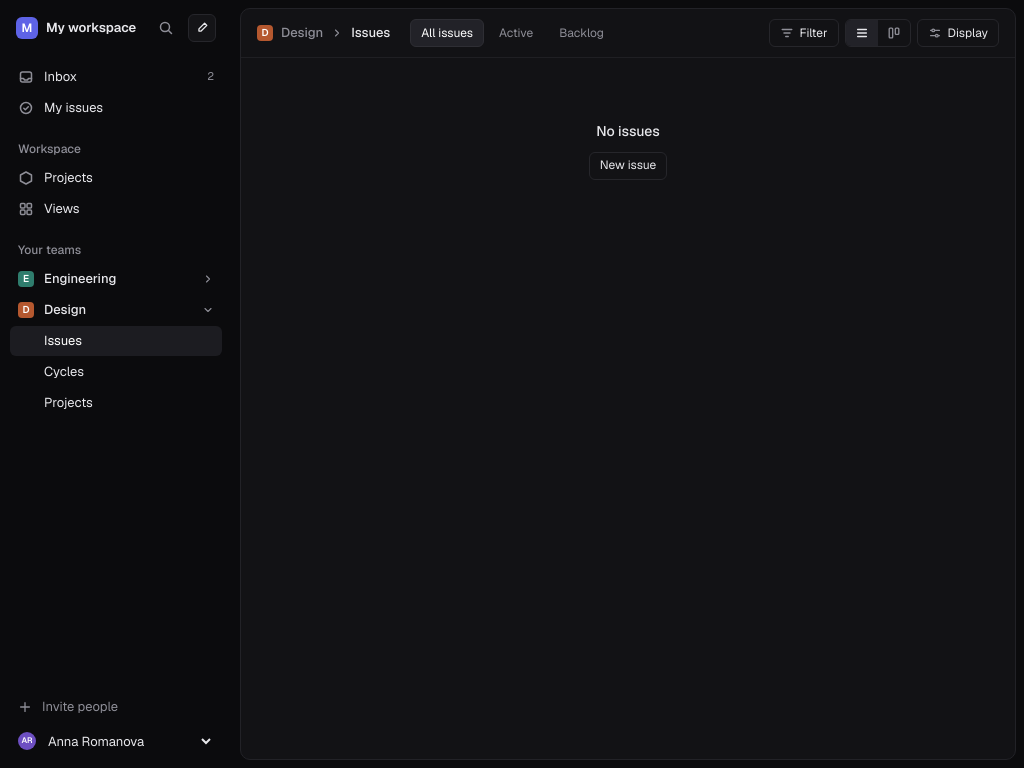
Sidebar › preselects the active team in the New issue dialog
Click the button named "New issue" at (202, 28), box [188,14,216,42]
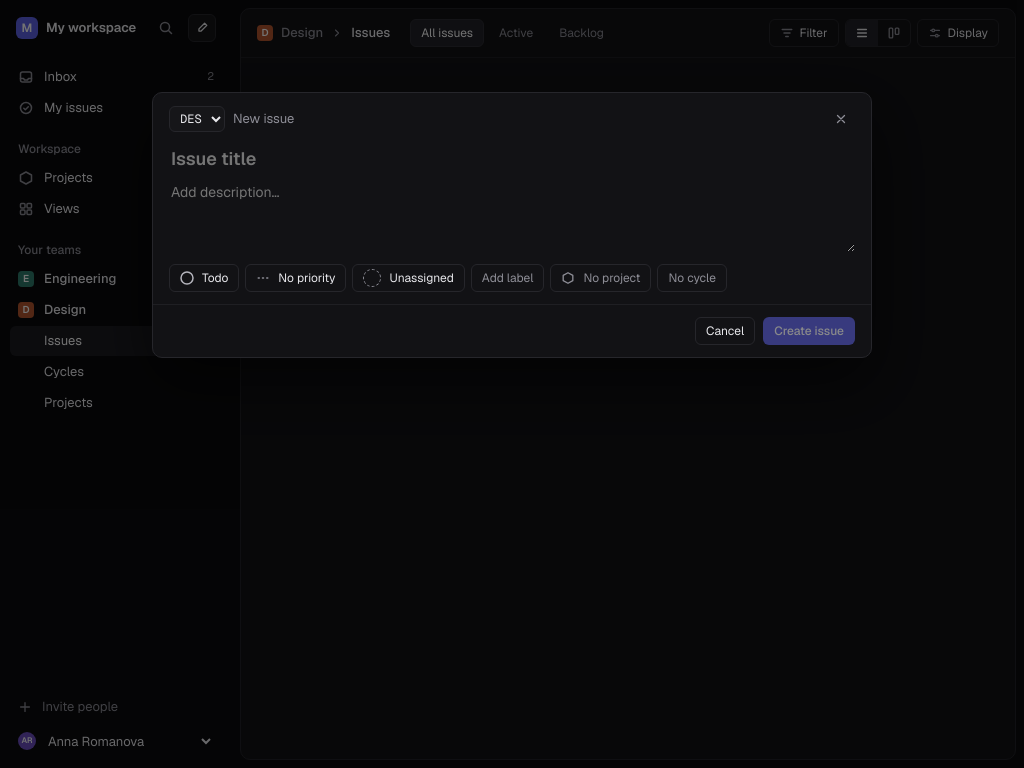
Now the dropdown named "Team" shows "DES", box [169,106,225,132]
